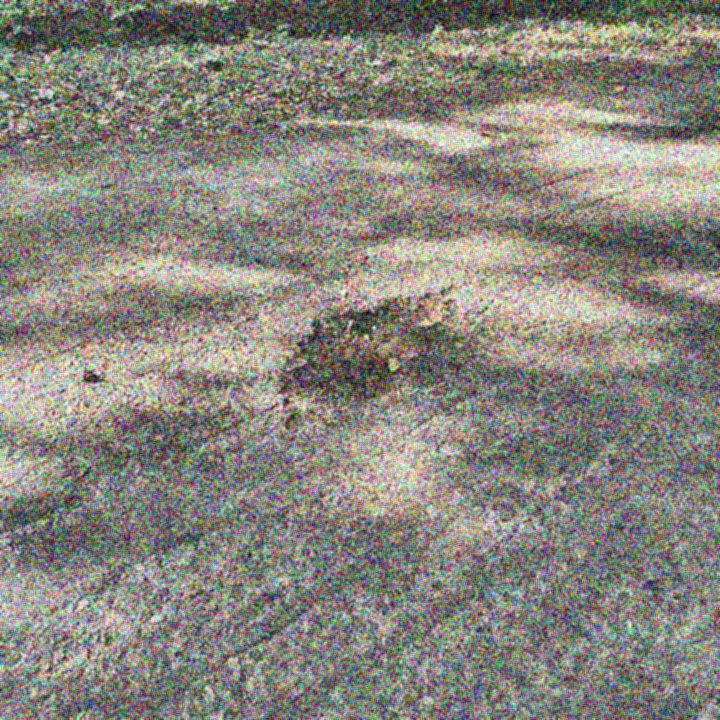pothole: (272, 279, 478, 437)
